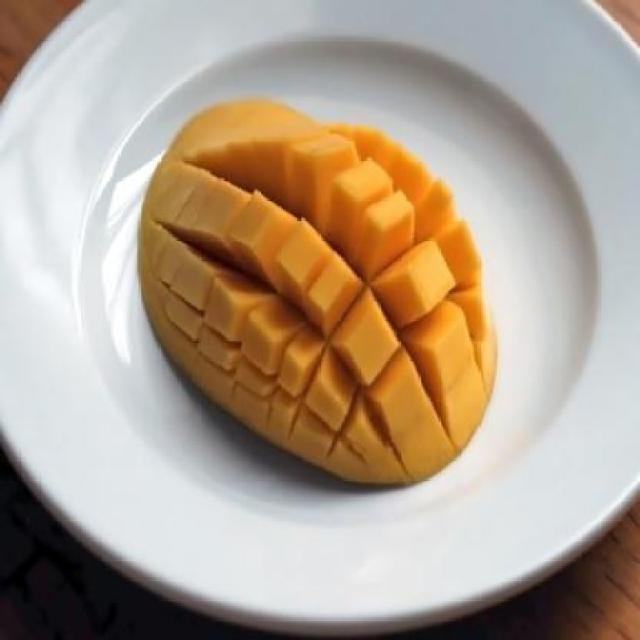Mango: (170, 114, 468, 460)
